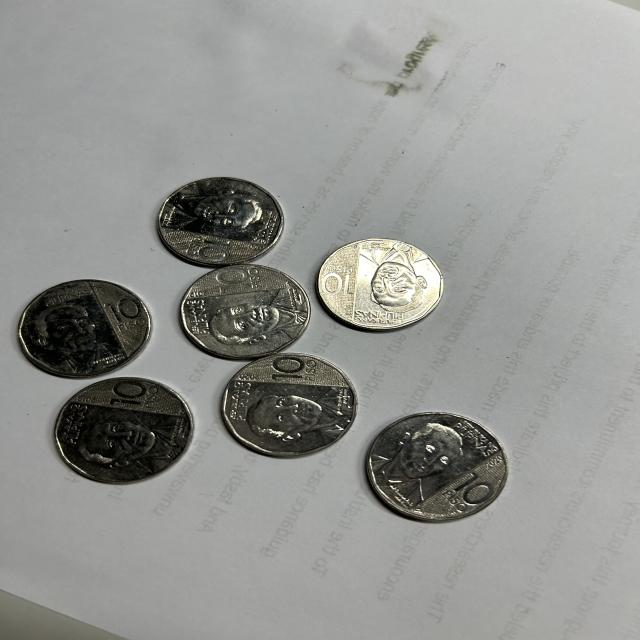10_New_Front: (437, 471, 492, 515), (188, 232, 238, 268), (260, 354, 319, 384), (103, 380, 167, 407), (102, 298, 144, 334), (322, 260, 356, 298), (214, 269, 268, 292)
